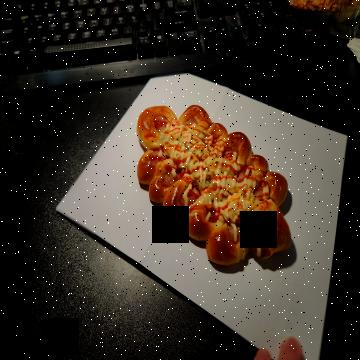pizza_bread: (137, 105, 292, 266)
